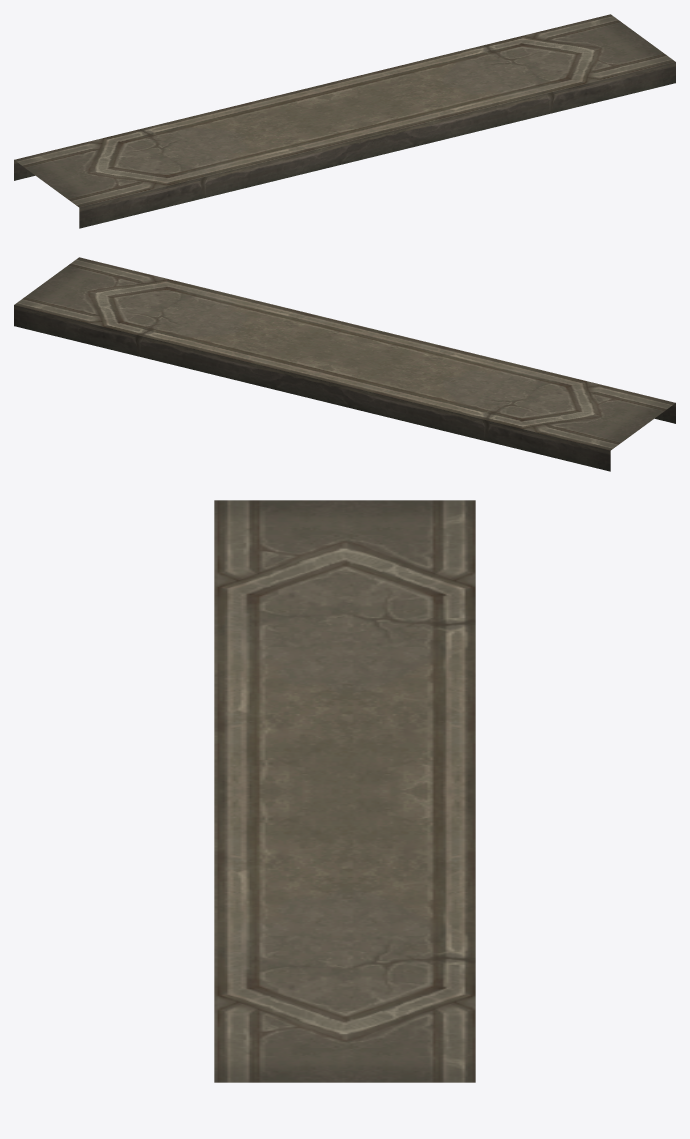
File: building_city_zhuchengbian.FBX
The picture shows the model from 3 angles, top to bottom: view 1: azimuth 30°, elevation 25°; view 2: azimuth 150°, elevation 25°; view 3: azimuth 270°, elevation 25°; orthographic projection. The views are drawn at different scales.
Visible parts, largest first — view 1: building_city_zhuchengbian; view 2: building_city_zhuchengbian; view 3: building_city_zhuchengbian.
Part boxes in pixels (x1,y1,x2,y2): building_city_zhuchengbian: (14, 14, 675, 228); building_city_zhuchengbian: (14, 257, 675, 471); building_city_zhuchengbian: (214, 500, 475, 1082).
Bounding box in the file's own units: 7.6 × 1.44 × 0.2567.
